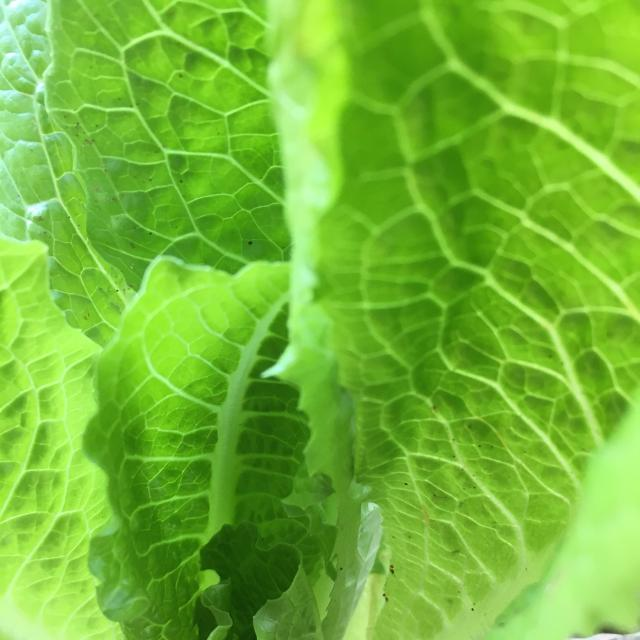Healthy Lettuce: (311, 6, 636, 634), (82, 252, 349, 636)
